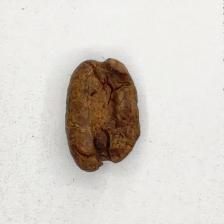NG: (76, 60, 128, 168)
